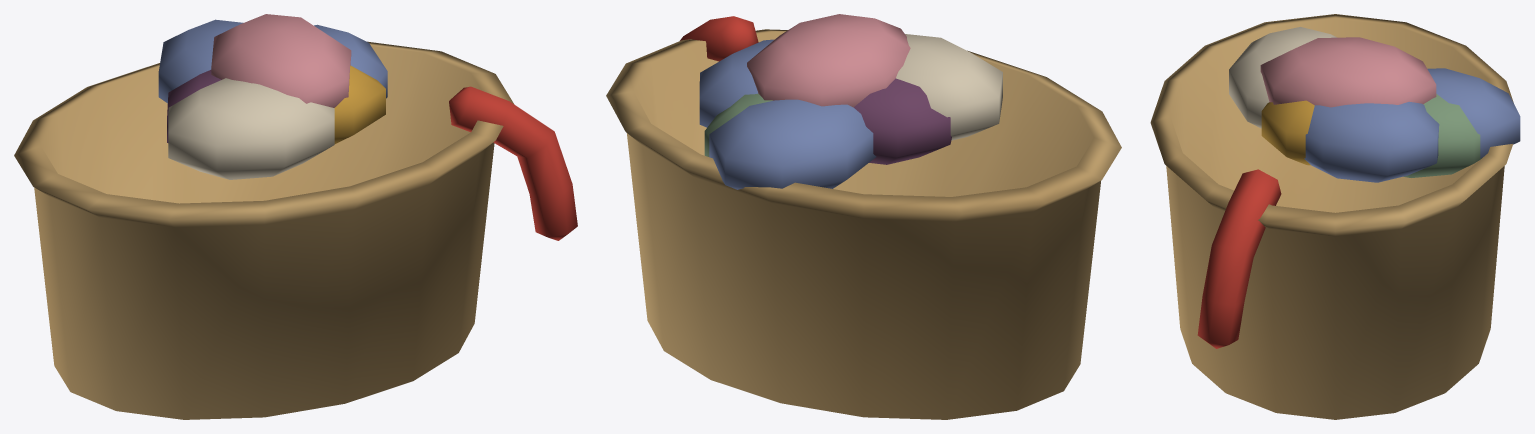
File: laundry_basket.glb
3 views of the same model, side by side, from view 1: azimuth 30°, elevation 25°; view 2: azimuth 150°, elevation 25°; view 3: azimuth 270°, elevation 25° (orthographic). The views are drawn at different scales.
Visible parts, largest first — view 1: laundry_basket; view 2: laundry_basket; view 3: laundry_basket.
Boxes of the visible parts, x1,y1,x2,y2 form: laundry_basket: [14, 14, 577, 419]; laundry_basket: [606, 14, 1121, 419]; laundry_basket: [1150, 14, 1520, 419].
Size of the model in its own units: 0.7247 by 0.4399 by 0.504.
